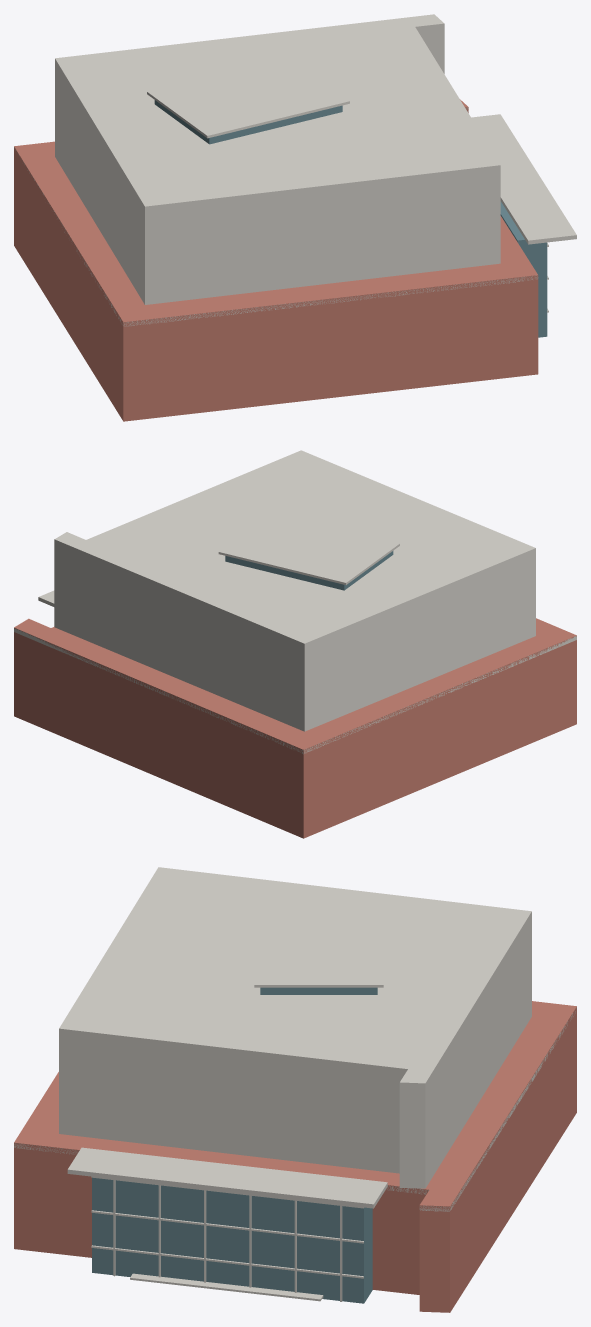
The model's file is communal.glb.
3 renders of one model, top to bottom at view 1: azimuth 30°, elevation 25°; view 2: azimuth 150°, elevation 25°; view 3: azimuth 270°, elevation 25°, orthographic. The views are drawn at different scales.
Visible parts, largest first — view 1: COM_lower, COM_roof_edge, COM_upper, COM_skylight_rim, COM_canopy, COM_atrium, COM_terrace_edge, COM_skylight; view 2: COM_lower, COM_roof_edge, COM_upper, COM_skylight_rim, COM_terrace_edge, COM_skylight; view 3: COM_roof_edge, COM_upper, COM_lower, COM_atrium, COM_skylight_rim, COM_canopy, COM_step_1, COM_terrace_edge, COM_skylight, COM_transom_1, COM_transom_0.
Boxes of the visible parts, box(x1,y1,x2,y2) form: COM_lower: box(14, 99, 538, 421); COM_roof_edge: box(55, 14, 500, 213); COM_upper: box(55, 30, 500, 304); COM_skylight_rim: box(147, 57, 349, 138); COM_canopy: box(471, 114, 576, 244); COM_atrium: box(500, 201, 547, 337); COM_terrace_edge: box(14, 107, 538, 326); COM_skylight: box(154, 100, 342, 144); COM_lower: box(14, 618, 576, 838); COM_roof_edge: box(54, 450, 535, 649); COM_upper: box(54, 545, 535, 731); COM_skylight_rim: box(218, 512, 399, 584); COM_terrace_edge: box(14, 628, 576, 754); COM_skylight: box(225, 551, 393, 590); COM_roof_edge: box(59, 867, 531, 1090); COM_upper: box(59, 919, 531, 1188); COM_lower: box(14, 1001, 576, 1312); COM_atrium: box(92, 1177, 372, 1303); COM_skylight_rim: box(254, 910, 383, 987); COM_canopy: box(67, 1147, 387, 1208); COM_step_1: box(130, 1273, 323, 1301); COM_terrace_edge: box(14, 1007, 576, 1211); COM_skylight: box(260, 987, 377, 994); COM_transom_1: box(91, 1210, 363, 1243); COM_transom_0: box(91, 1245, 363, 1278).
Size of the model in its own units: 51.55 by 21.08 by 47.94.
